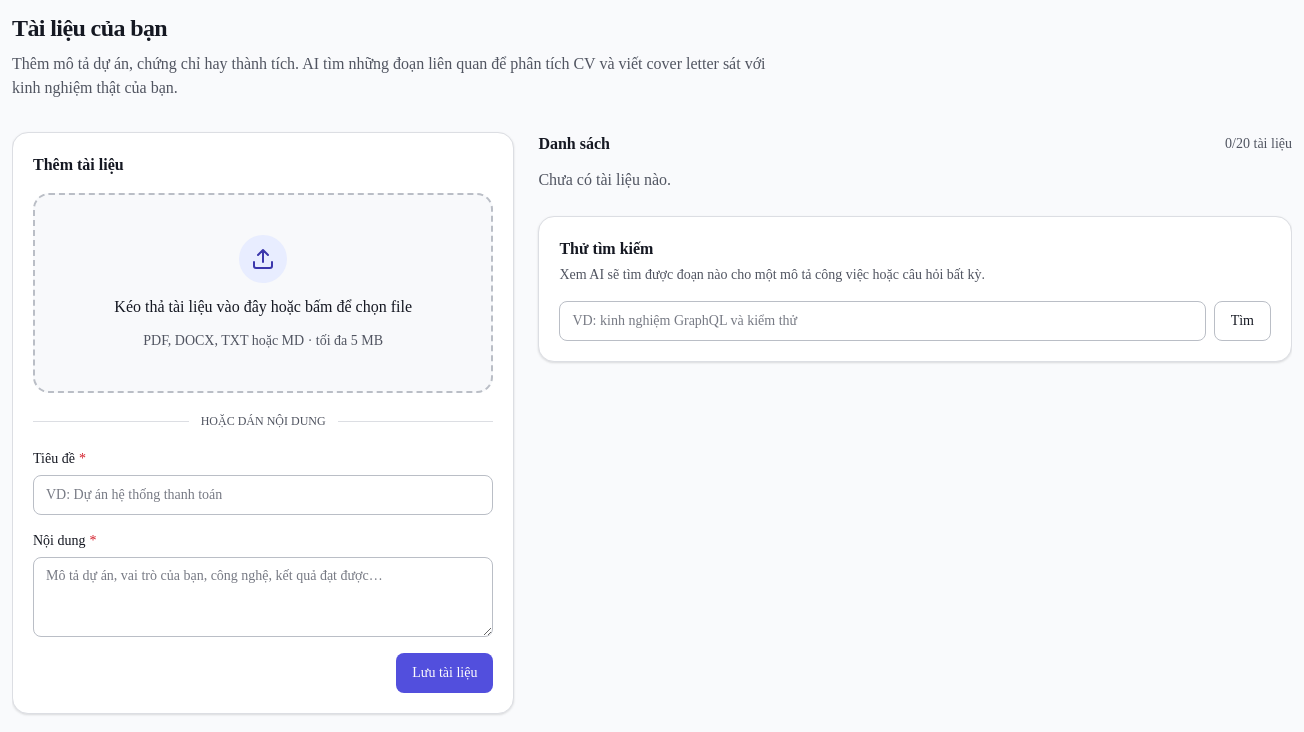
Test: DocumentsView › saves pasted text
Type "Dự án GraphQL" into the field labelled "Tiêu đề *". click: coordinates (263, 495)
box: [33,475,493,515]
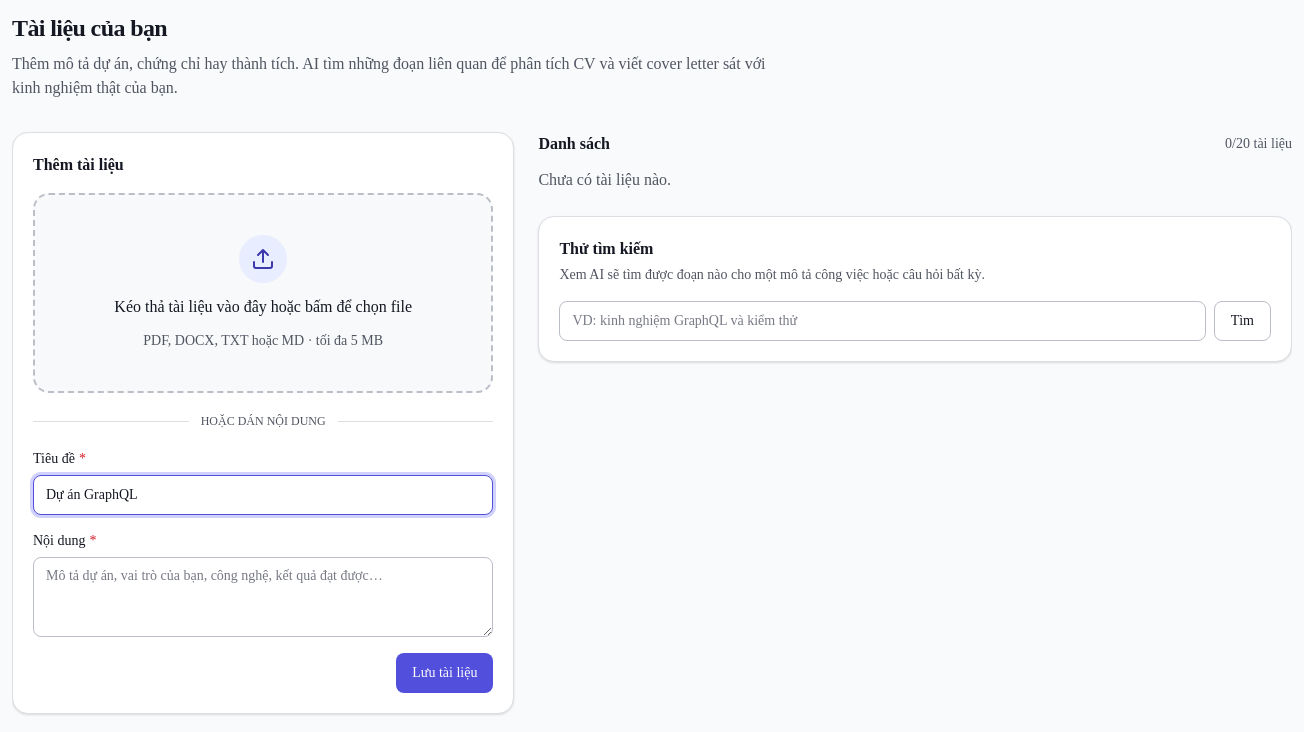
Type "Xây dựng API GraphQL với Apollo Server cho hệ thống thanh toán." into the text box labelled "Nội dung *". click: coordinates (263, 597)
box: [33,557,493,637]
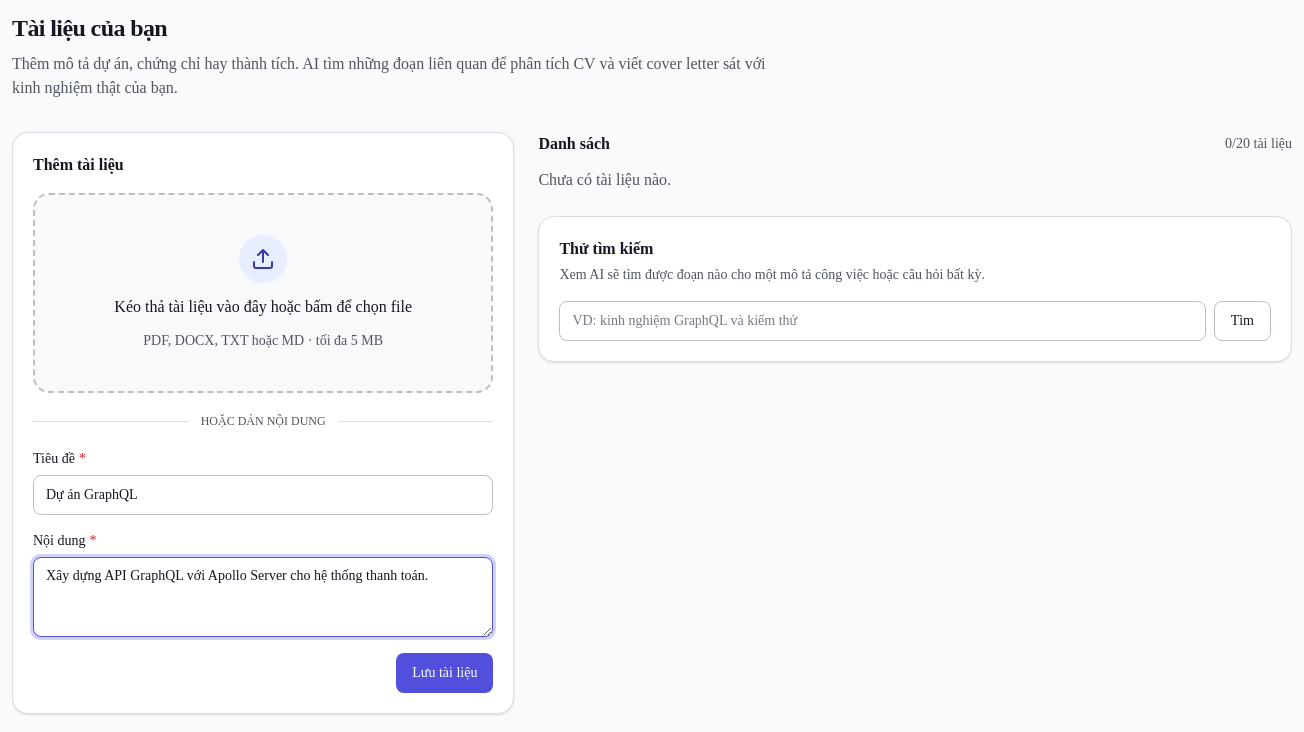
Click the button "Lưu tài liệu". click: coordinates (445, 673)
box: [396,653,493,693]
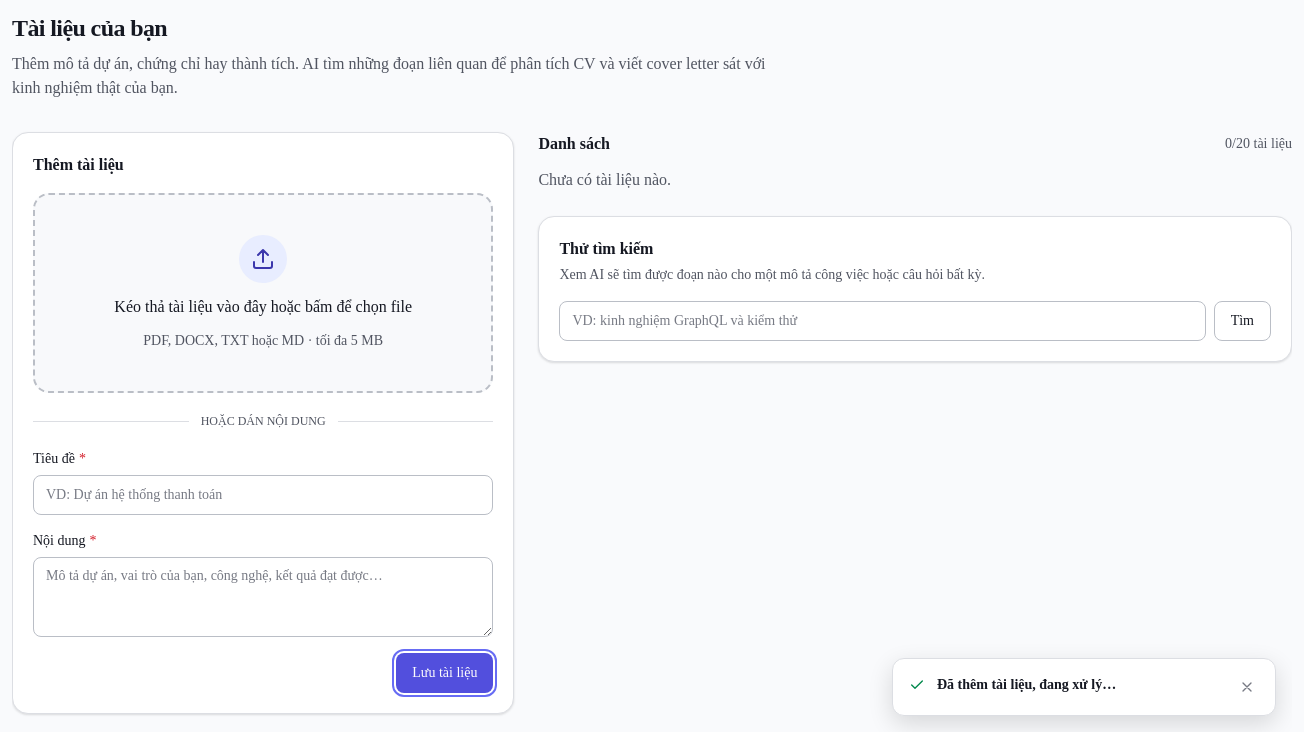
Check: the text "Đã thêm tài liệu, đang xử lý…" is shown, box [937,677,1116,692]
